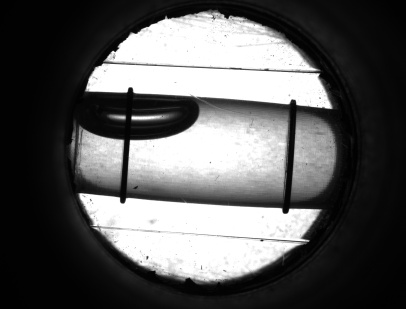line: (279, 118, 301, 196), (116, 146, 134, 183)
